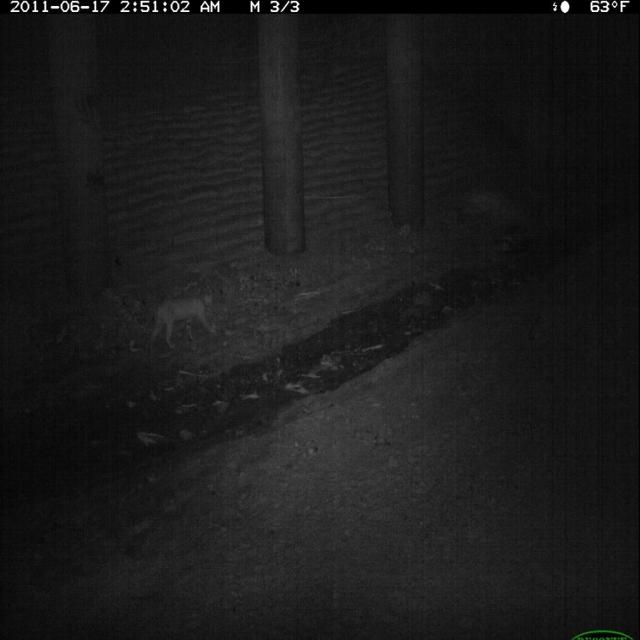bobcat: (144, 283, 222, 361)
